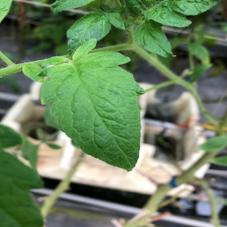Healthy: (34, 38, 147, 173)
